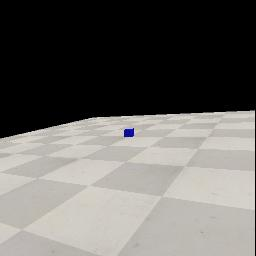box: (124, 128, 134, 137)
